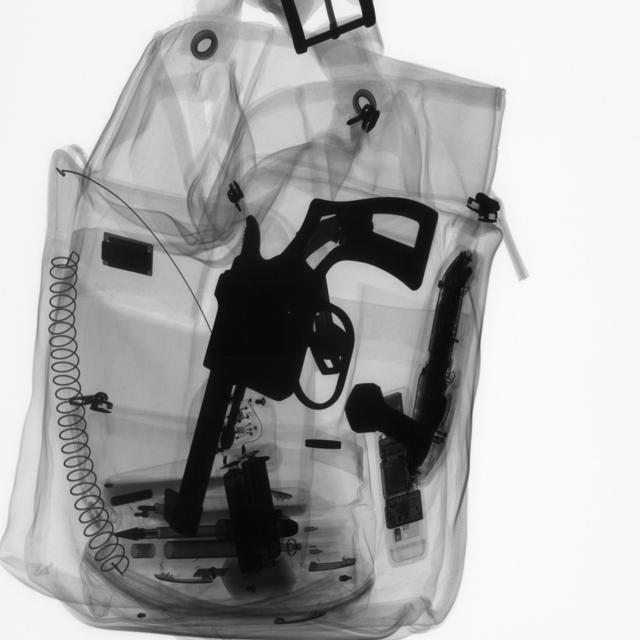gun: (156, 196, 448, 539)
